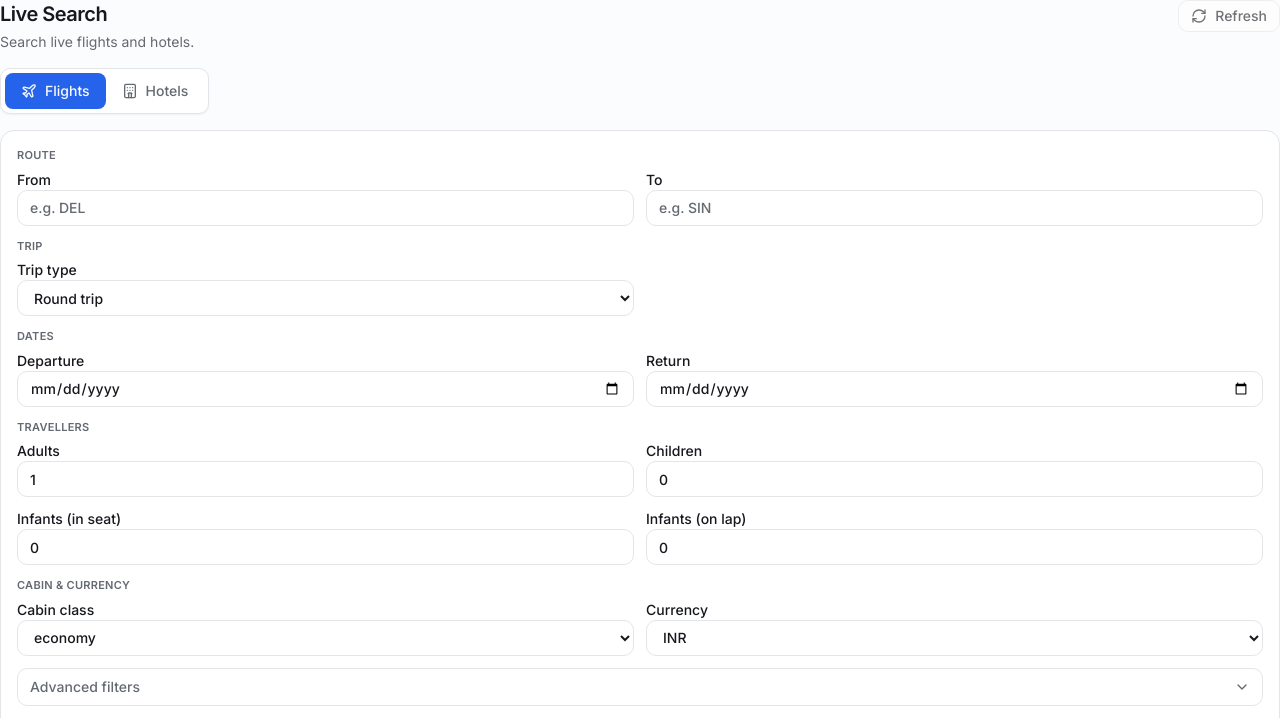
it: TravelSearchPage › preserves the selected currency across tabs
The width and height of the screenshot is (1280, 718).
Select "USD" in the dropdown labelled "Currency" at [954, 638], box [646, 620, 1263, 656]
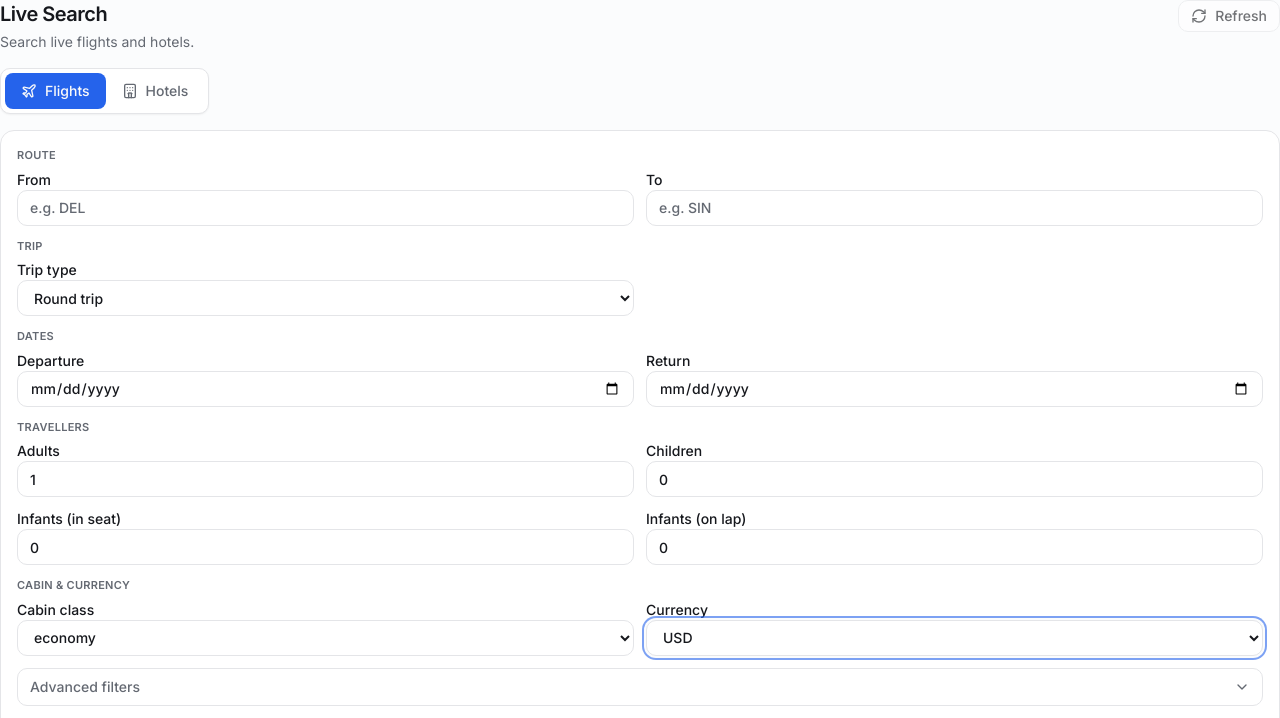
Click the tab "Hotels".
click(155, 91)  # box [106, 73, 204, 109]
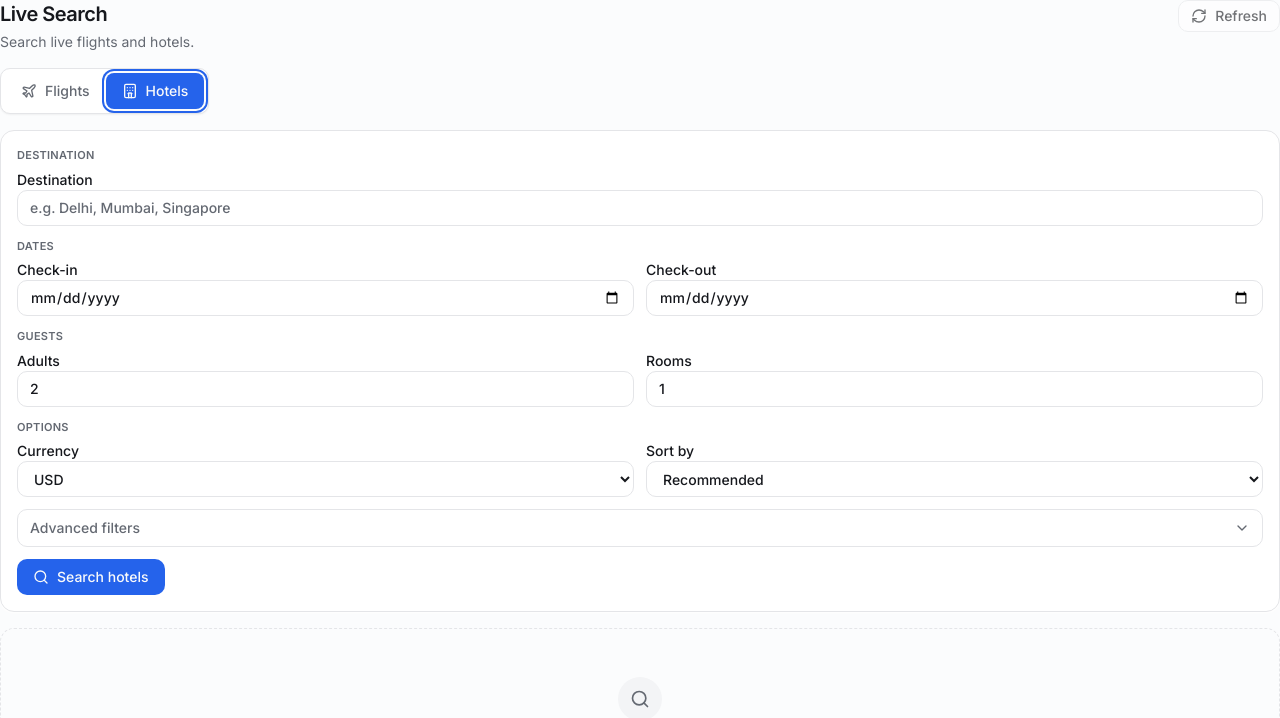
Expected: the dropdown labelled "Currency" shows "USD", [17, 461, 634, 497]
